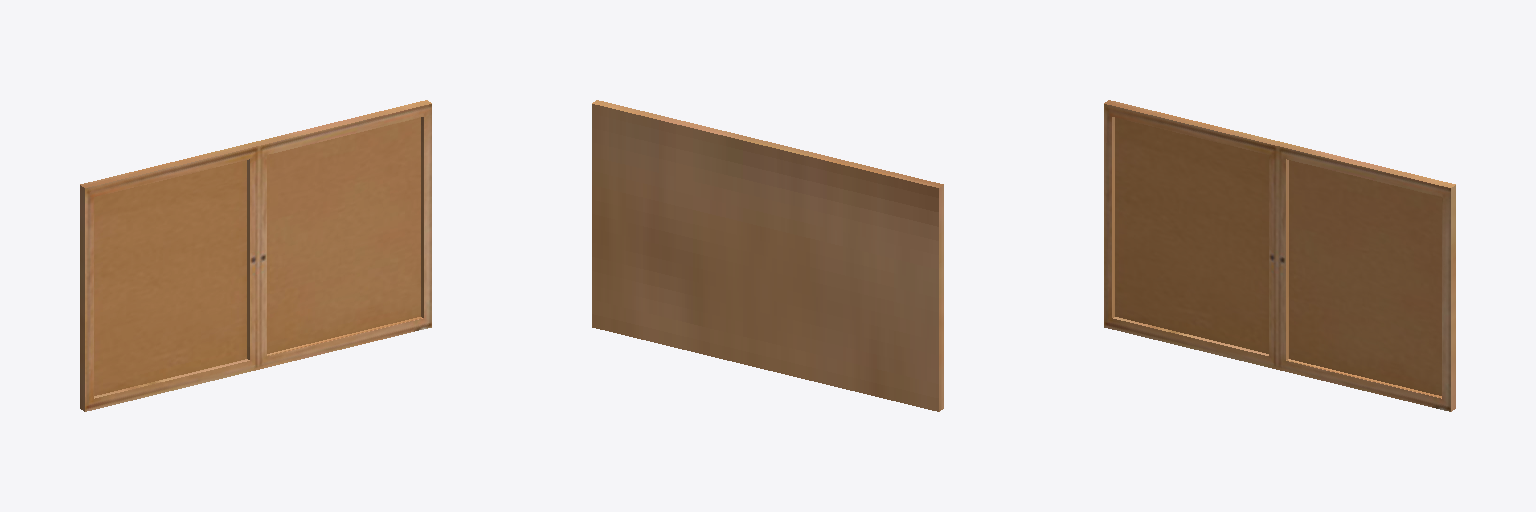
The picture shows the model from 3 angles: view 1: azimuth 30°, elevation 25°; view 2: azimuth 150°, elevation 25°; view 3: azimuth 330°, elevation 25°; orthographic projection.
Parts seen in each view (by area): view 1: doubleBulletinBoard.obj; view 2: doubleBulletinBoard.obj; view 3: doubleBulletinBoard.obj.
Part boxes in pixels (x1,y1,x2,y2): doubleBulletinBoard.obj: (80,100,431,411); doubleBulletinBoard.obj: (592,100,943,411); doubleBulletinBoard.obj: (1104,100,1455,411).
Bounding box in the file's own units: 10.59 × 6.52 × 0.2698.
1 materials, 1 textured.